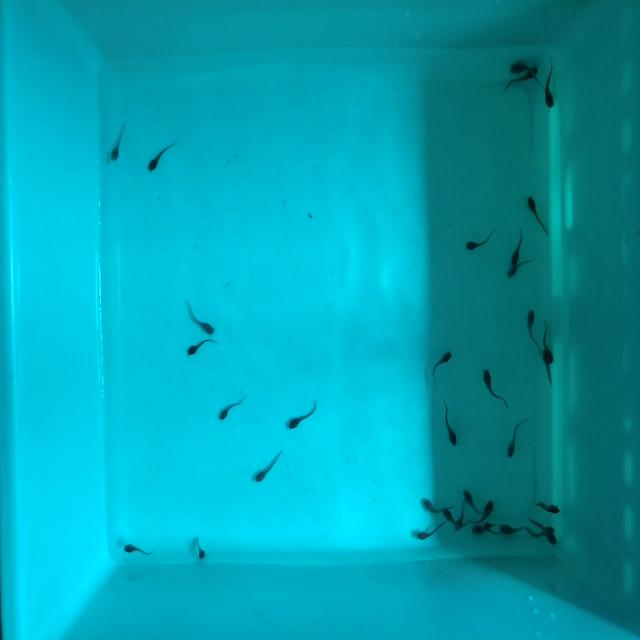lele: (251, 443, 288, 486), (179, 299, 217, 338), (479, 363, 508, 410), (283, 395, 320, 431), (526, 510, 560, 547), (524, 193, 551, 238), (144, 138, 175, 176), (215, 388, 249, 422), (503, 416, 528, 461), (504, 250, 540, 281), (505, 62, 539, 93), (440, 399, 460, 450), (428, 348, 455, 384), (464, 226, 498, 254), (538, 316, 556, 365), (523, 306, 541, 354), (109, 122, 129, 164), (414, 519, 449, 543), (459, 484, 485, 515), (184, 335, 218, 358), (470, 498, 496, 525), (544, 62, 556, 112), (533, 495, 561, 516), (122, 541, 156, 558), (511, 222, 524, 265), (192, 532, 209, 562), (422, 497, 456, 512), (453, 499, 467, 535), (541, 348, 554, 386), (525, 523, 555, 537), (440, 505, 457, 529), (481, 516, 501, 533), (498, 524, 525, 535), (508, 63, 532, 74), (470, 525, 485, 534)
